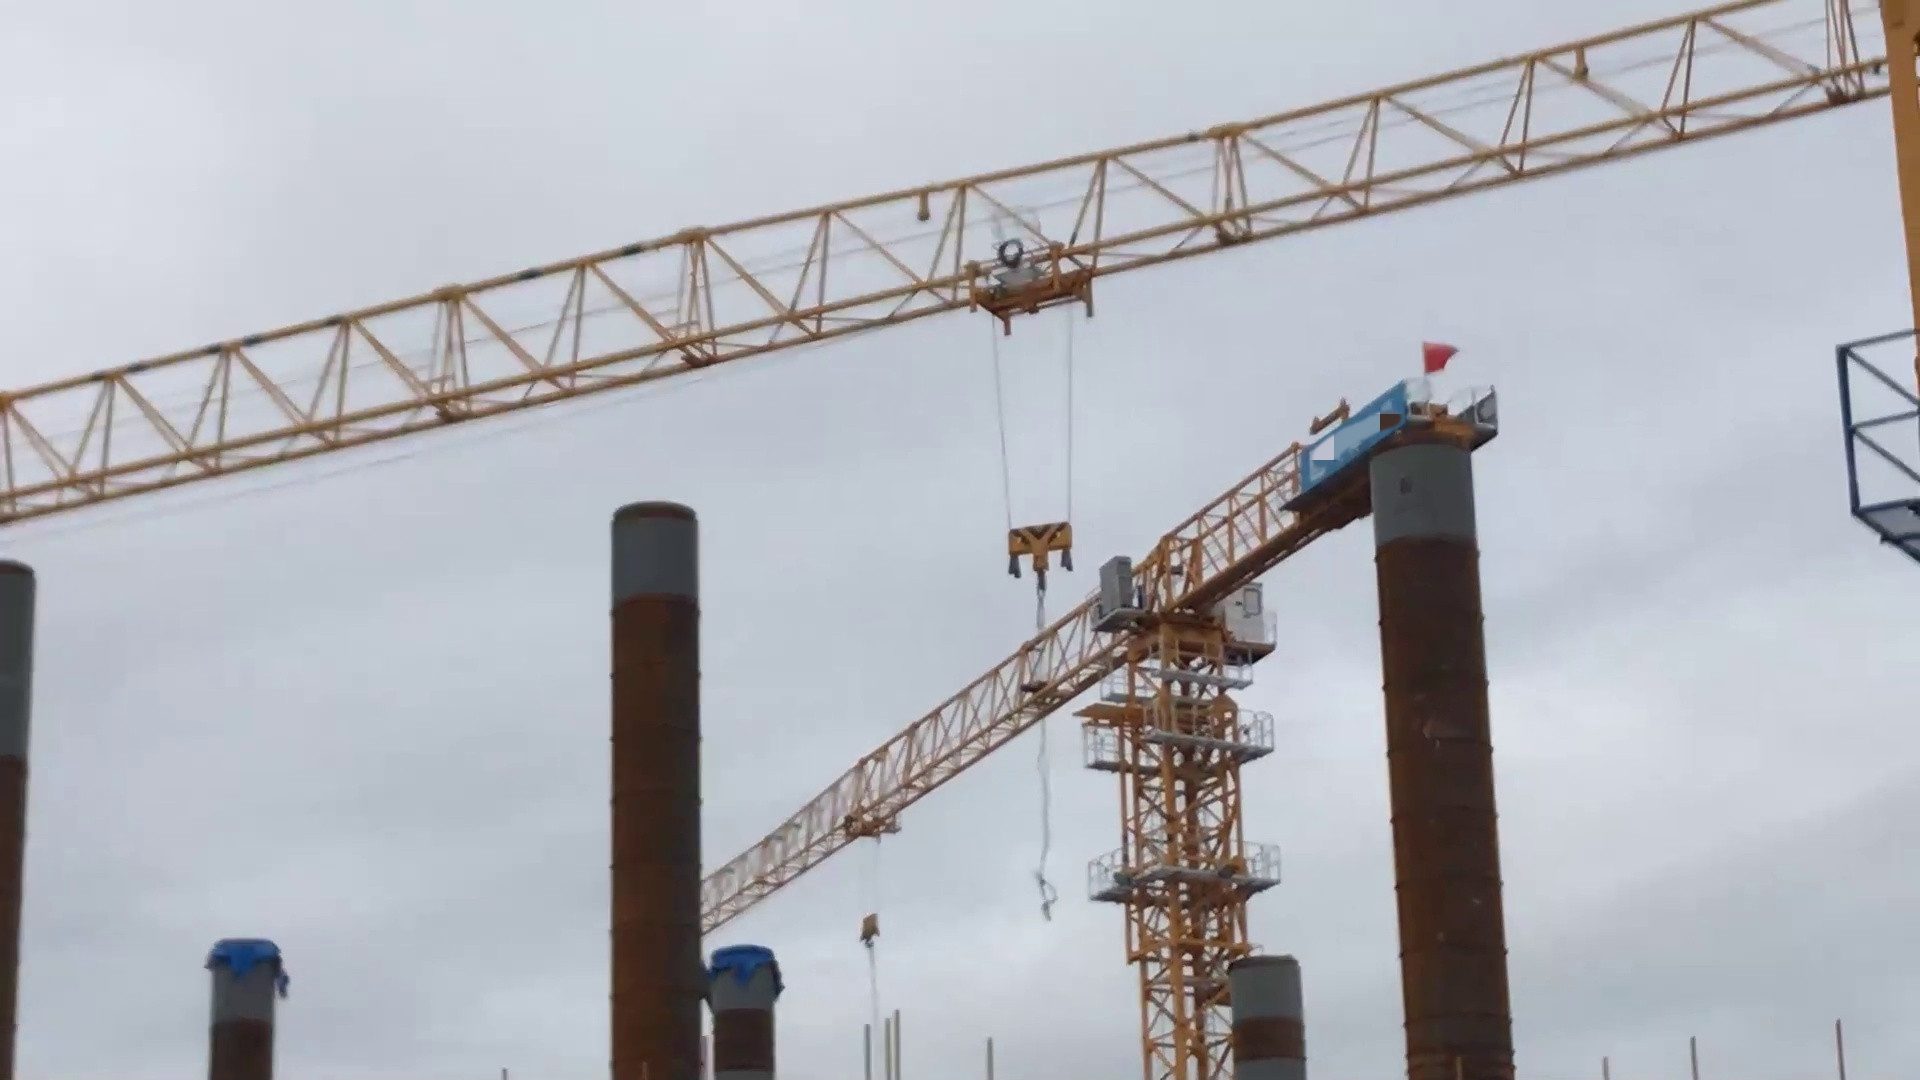hook: (989, 510, 1101, 589)
